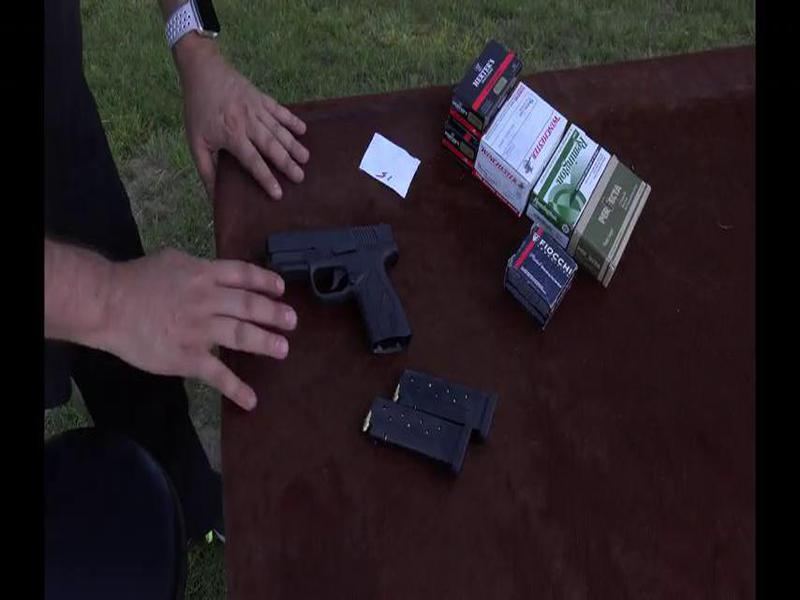Pistola: (249, 214, 423, 374)
